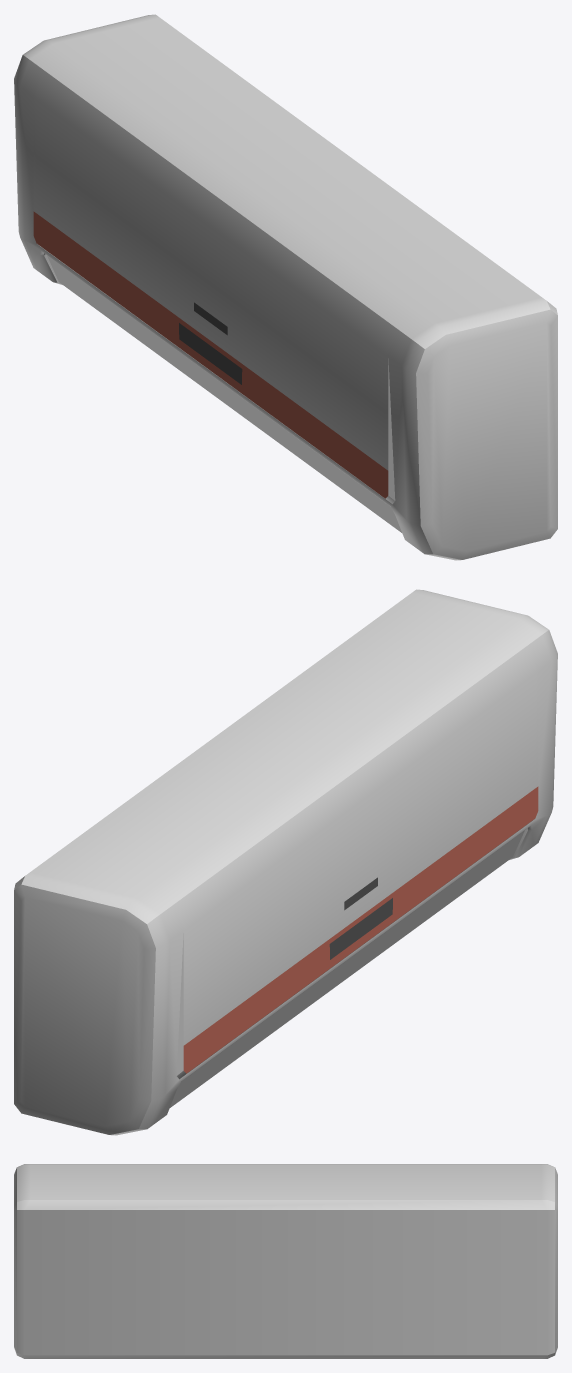
The model's file is KFR32GW.FBX.
3 views of the same model, one above another, from view 1: azimuth 30°, elevation 25°; view 2: azimuth 150°, elevation 25°; view 3: azimuth 270°, elevation 25° (orthographic). The views are drawn at different scales.
Parts seen in each view (by area): view 1: KFR32GW; view 2: KFR32GW; view 3: KFR32GW.
Part boxes in pixels (x1,y1,x2,y2): KFR32GW: [14, 14, 557, 560]; KFR32GW: [14, 589, 557, 1135]; KFR32GW: [14, 1164, 557, 1358].
Size of the model in its own units: 18.05 by 84.5 by 27.5.
